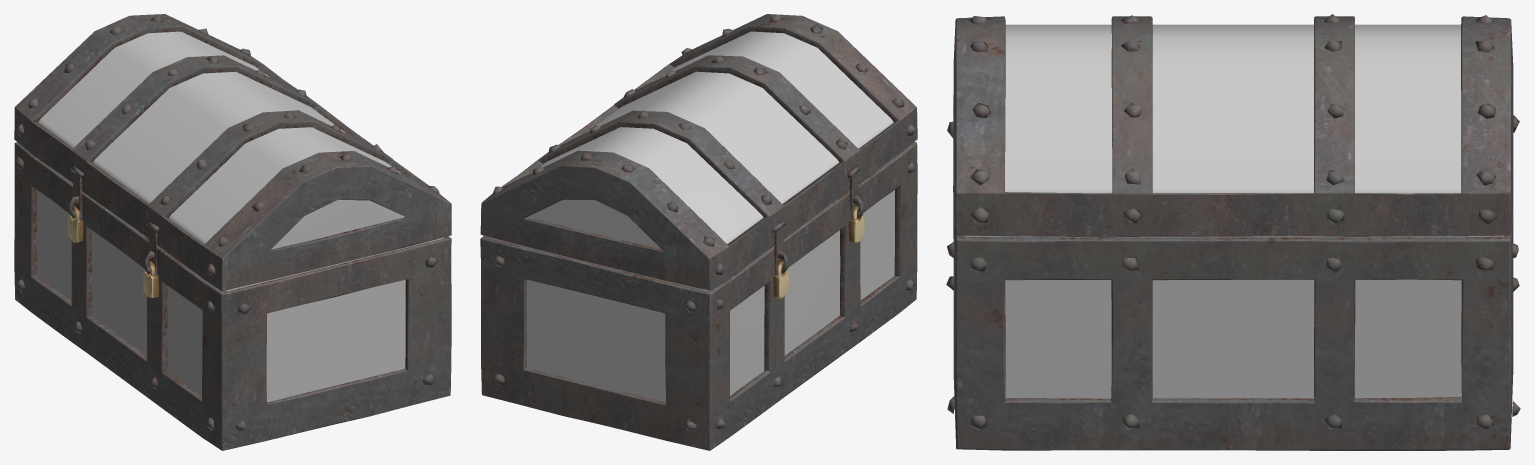
Rendered from SM_LargeChest.fbx.
The picture shows the model from 3 angles, left to right: view 1: azimuth 30°, elevation 25°; view 2: azimuth 150°, elevation 25°; view 3: azimuth 270°, elevation 25°; orthographic projection. The views are drawn at different scales.
Parts seen in each view (by area): view 1: SM_LargeChest_LOD0; view 2: SM_LargeChest_LOD0; view 3: SM_LargeChest_LOD0.
Boxes of the visible parts, x1,y1,x2,y2 form: SM_LargeChest_LOD0: (14, 14, 451, 450); SM_LargeChest_LOD0: (480, 14, 917, 450); SM_LargeChest_LOD0: (946, 14, 1520, 450).
Size of the model in its own units: 56.12 by 83.95 by 56.5.
